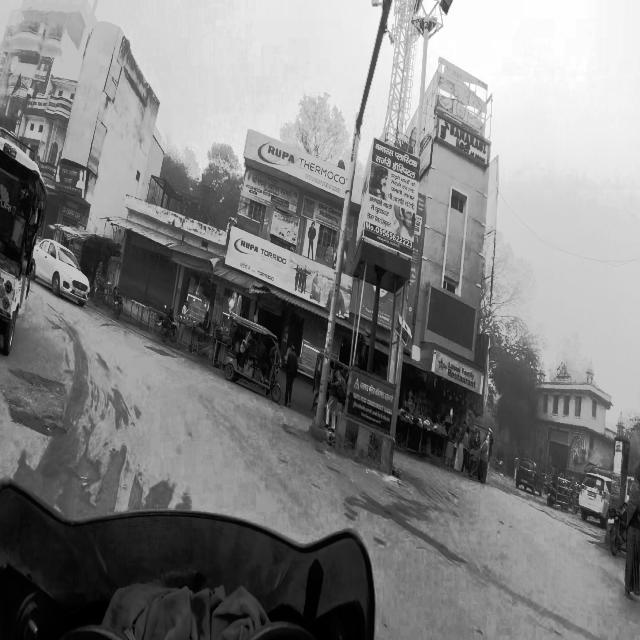Car: (32, 233, 92, 309)
Toto: (0, 118, 46, 342), (224, 307, 283, 406)
